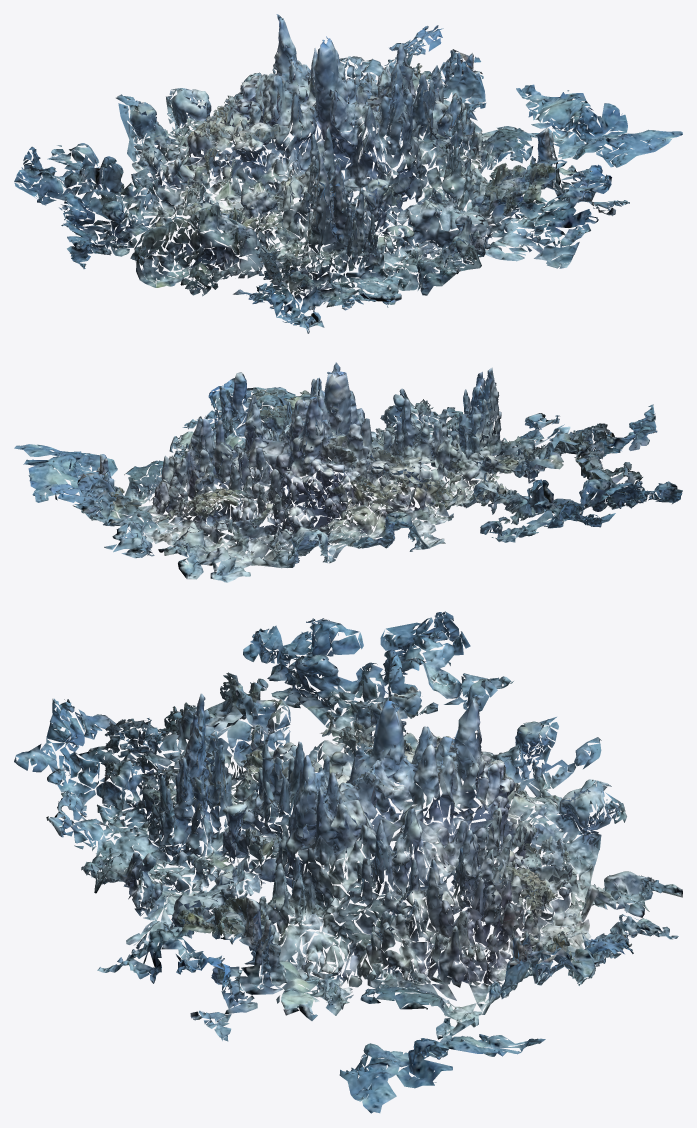
Rendered from coral_pillar.glb.
3 views of the same model, one above another, from view 1: azimuth 30°, elevation 25°; view 2: azimuth 150°, elevation 25°; view 3: azimuth 270°, elevation 25° (orthographic). The views are drawn at different scales.
Visible parts, largest first — view 1: Object_2, Object_18, Object_16, Object_19, Object_3, Object_21, Object_4, Object_20, Object_15, Object_22, Object_5, Object_23 (+42 smaller); view 2: Object_19, Object_2, Object_40, Object_6, Object_18, Object_9, Object_21, Object_17, Object_39, Object_20, Object_14, Object_27 (+44 smaller); view 3: Object_2, Object_19, Object_18, Object_20, Object_5, Object_4, Object_15, Object_29, Object_8, Object_3, Object_36, Object_21 (+44 smaller).
Boxes of the visible parts, bbox=[...] form: Object_2: bbox=[14, 14, 627, 263]; Object_18: bbox=[66, 49, 609, 333]; Object_16: bbox=[81, 89, 485, 290]; Object_19: bbox=[37, 61, 629, 304]; Object_3: bbox=[278, 43, 416, 244]; Object_21: bbox=[21, 89, 625, 316]; Object_4: bbox=[273, 55, 427, 207]; Object_20: bbox=[14, 57, 610, 304]; Object_15: bbox=[69, 76, 598, 273]; Object_22: bbox=[39, 84, 521, 304]; Object_5: bbox=[263, 43, 428, 204]; Object_23: bbox=[94, 99, 583, 294]; Object_19: bbox=[28, 410, 655, 541]; Object_2: bbox=[182, 362, 604, 523]; Object_40: bbox=[121, 452, 335, 582]; Object_6: bbox=[193, 372, 501, 462]; Object_18: bbox=[45, 405, 671, 549]; Object_9: bbox=[190, 388, 497, 490]; Object_21: bbox=[44, 412, 658, 562]; Object_17: bbox=[102, 415, 595, 520]; Object_39: bbox=[103, 455, 605, 579]; Object_20: bbox=[77, 418, 682, 541]; Object_14: bbox=[99, 387, 589, 503]; Object_27: bbox=[32, 431, 659, 552]; Object_2: bbox=[109, 615, 488, 1041]; Object_19: bbox=[78, 634, 601, 1056]; Object_18: bbox=[14, 625, 623, 1075]; Object_20: bbox=[69, 622, 611, 1015]; Object_5: bbox=[178, 721, 489, 875]; Object_4: bbox=[191, 710, 479, 890]; Object_15: bbox=[120, 668, 623, 987]; Object_29: bbox=[47, 670, 626, 1082]; Object_8: bbox=[179, 739, 510, 975]; Object_3: bbox=[185, 693, 480, 897]; Object_36: bbox=[87, 687, 616, 1057]; Object_21: bbox=[52, 624, 600, 1056].
Bounding box in the file's own units: 6.87 × 1.79 × 5.
1 material, 1 textured.
